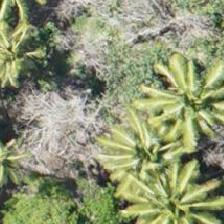coconut_tree: (136, 65, 223, 155), (130, 156, 220, 223)
